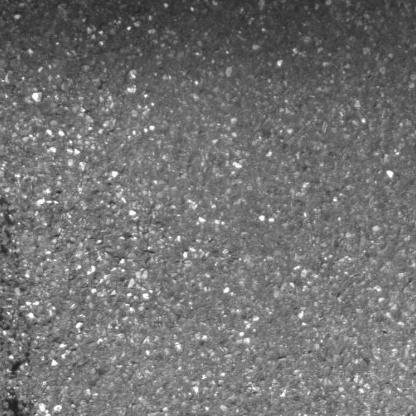Cracks: (4, 342, 48, 382), (0, 384, 41, 416)
